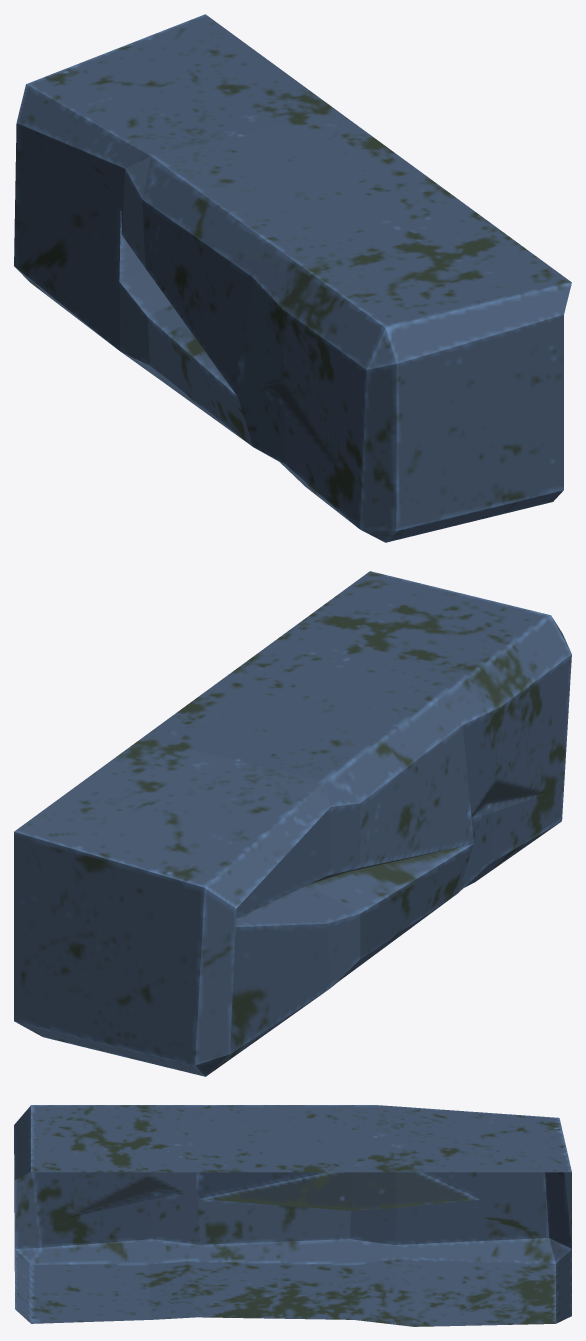
The model's file is Cegla_1.fbx.
3 views of the same model, one above another, from view 1: azimuth 30°, elevation 25°; view 2: azimuth 150°, elevation 25°; view 3: azimuth 270°, elevation 25° (orthographic). The views are drawn at different scales.
Visible parts, largest first — view 1: Cegla_1; view 2: Cegla_1; view 3: Cegla_1.
Boxes of the visible parts, x1=… form: Cegla_1: x1=14, y1=14, x2=571, y2=542; Cegla_1: x1=14, y1=571, x2=571, y2=1076; Cegla_1: x1=14, y1=1105, x2=571, y2=1326.
Bounding box in the file's own units: 215 × 203 × 638.
